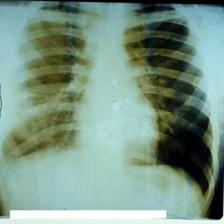tuberculosis: (1, 2, 216, 198)
